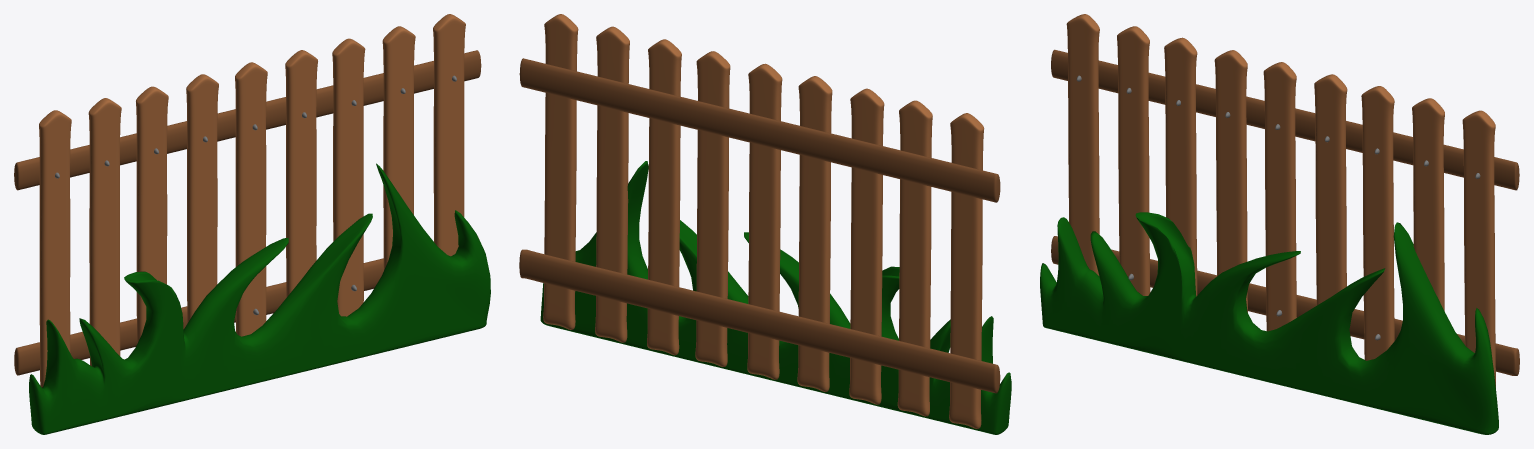
The model's file is Fence.fbx.
3 views of the same model, side by side, from view 1: azimuth 30°, elevation 25°; view 2: azimuth 150°, elevation 25°; view 3: azimuth 330°, elevation 25° (orthographic). The views are drawn at different scales.
Visible parts, largest first — view 1: polySurface73; view 2: polySurface73; view 3: polySurface73.
Boxes of the visible parts, bbox=[...] form: polySurface73: bbox=[14, 14, 490, 434]; polySurface73: bbox=[519, 14, 1011, 434]; polySurface73: bbox=[1040, 14, 1519, 434].
Size of the model in its own units: 6.51 by 4.14 by 0.5584.
